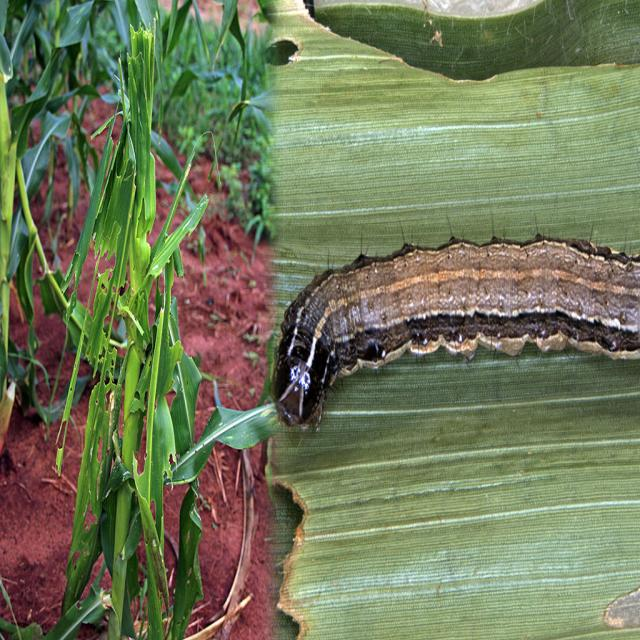worm: (270, 235, 640, 433)
